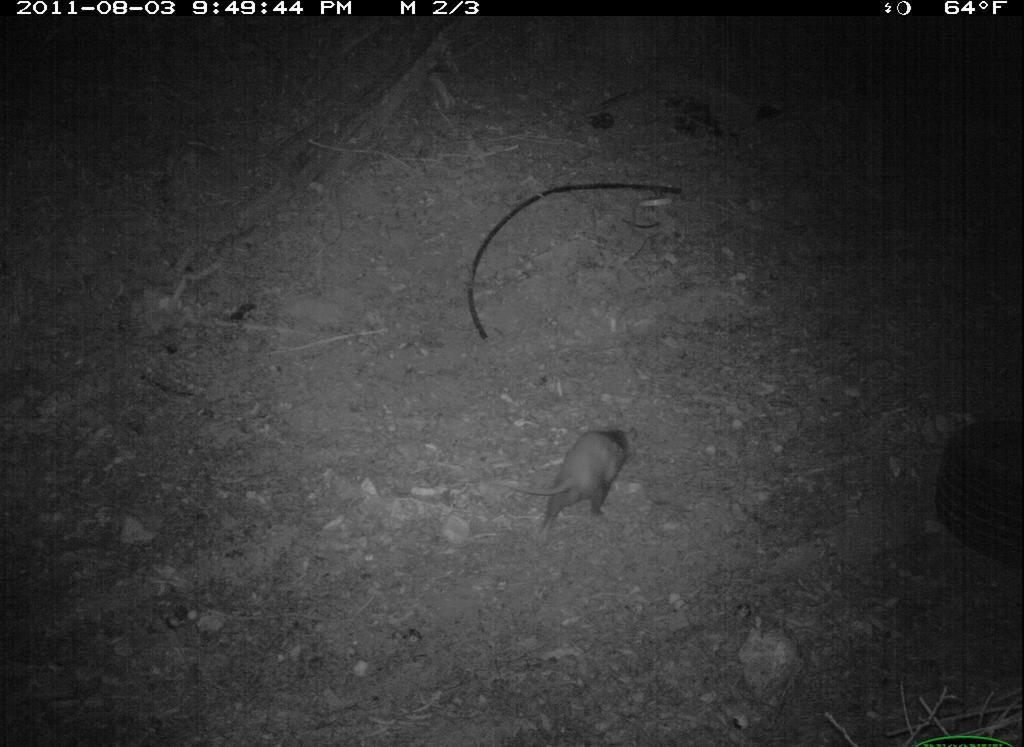opossum: (473, 411, 662, 569)
